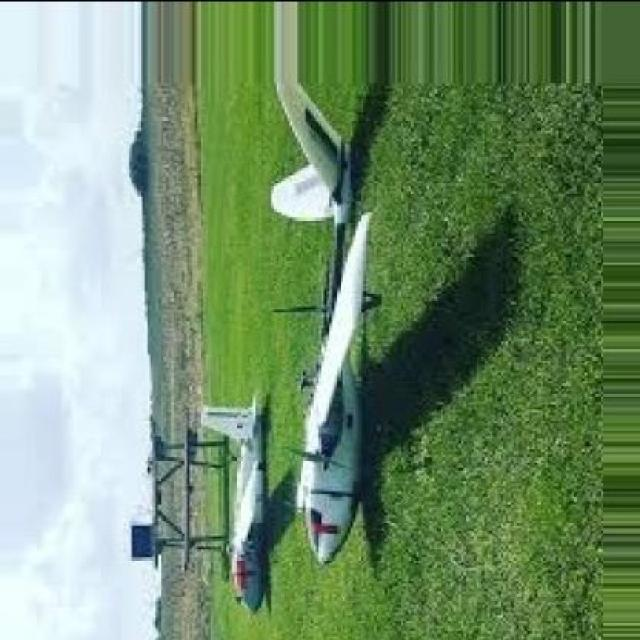iha: (298, 68, 343, 564), (232, 398, 250, 618)
